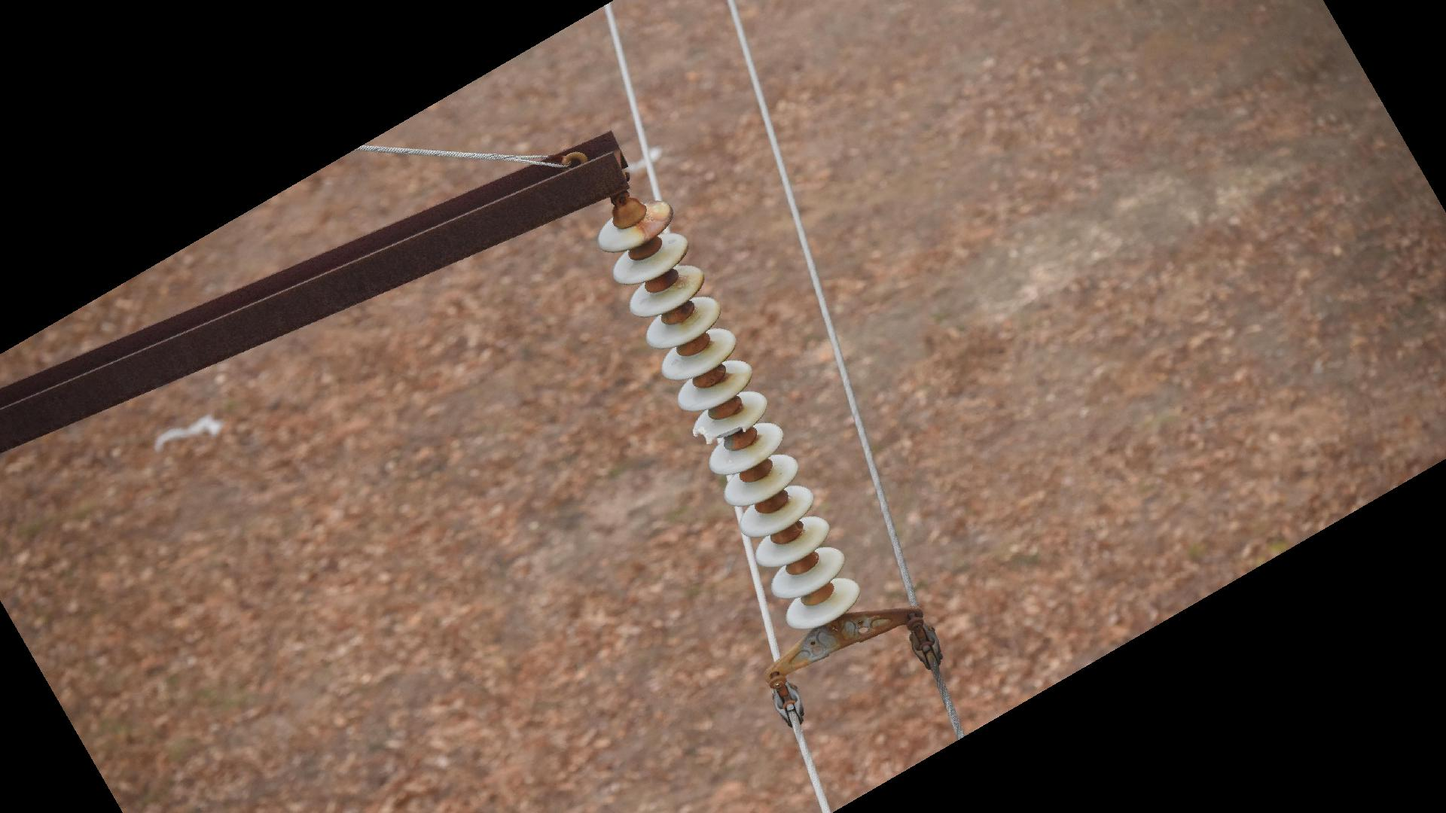insulator: (593, 196, 862, 635)
insulator_breakage: (689, 422, 749, 448)
